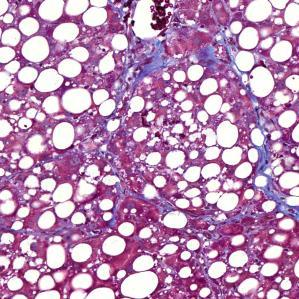fibrosis: (123, 45, 193, 83)
